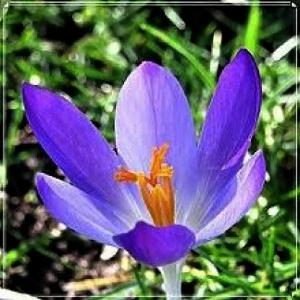Saffron: (24, 57, 272, 300)
